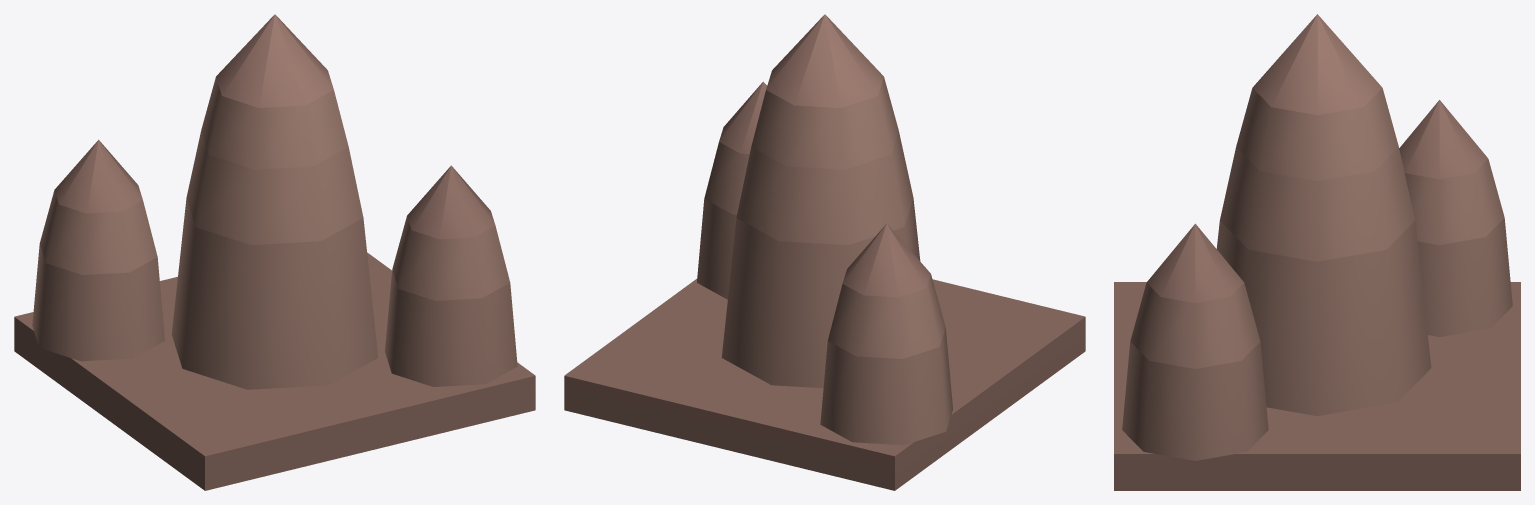
The model's file is sambor-prei-kuk.glb.
The picture shows the model from 3 angles, left to right: view 1: azimuth 30°, elevation 25°; view 2: azimuth 150°, elevation 25°; view 3: azimuth 270°, elevation 25°; orthographic projection. The views are drawn at different scales.
Bounding box in the file's own units: 4.32 × 4.24 × 4.
